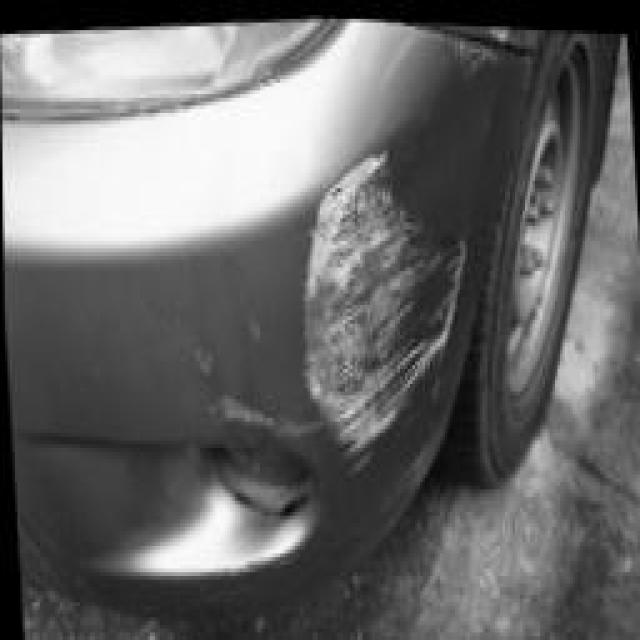Bumper: (150, 30, 538, 559)
